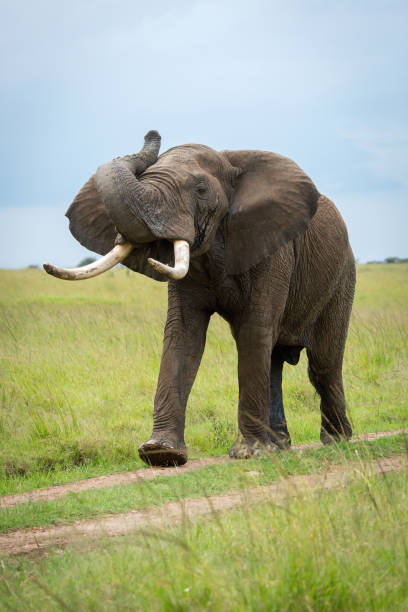africanelephant: (62, 122, 281, 323)
